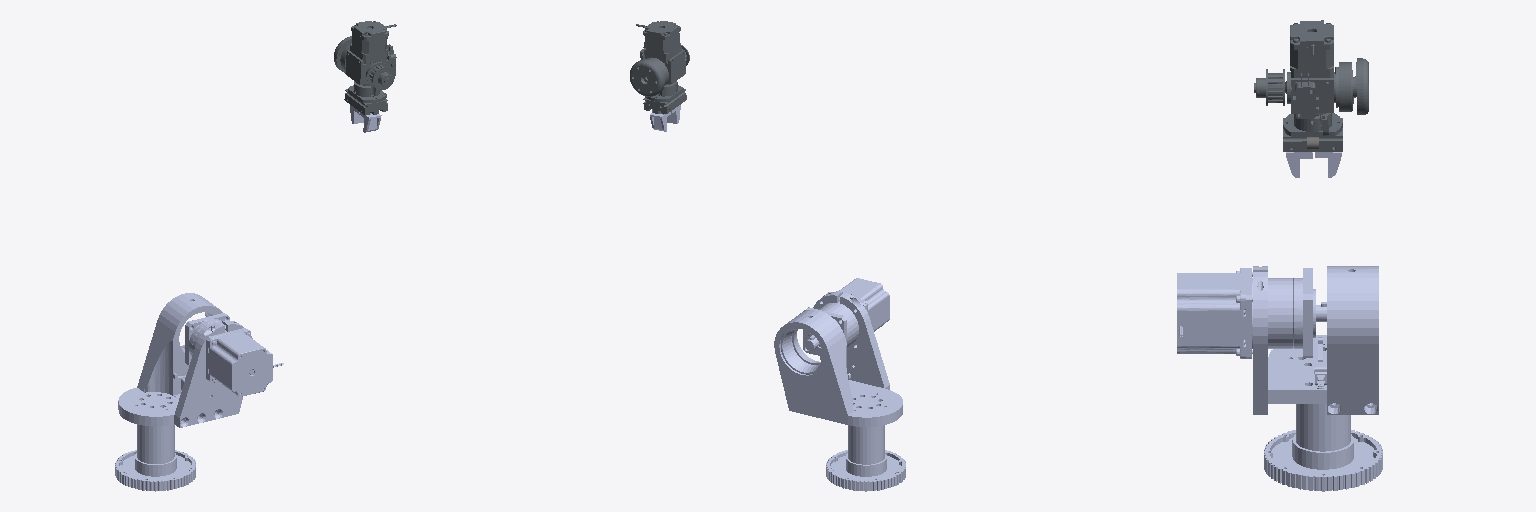
The robot description file, URDF, robot "ar2_robot":
<?xml version="1.0" encoding="utf-8"?>
<!-- This URDF was automatically created by SolidWorks to URDF Exporter! Originally created by [author] ([email redacted]) 
     Commit Version: 1.6.0-4-g7f85cfe  Build Version: 1.6.7995.38578
     For more information, please see http://wiki.ros.org/sw_urdf_exporter -->
<robot
  name="ar2_robot">
  
  <link name="world"/>
  
  <joint name="base_joint" type="fixed">
	<parent link="world"/>
	<child link="Base"/>
	<origin rpy="1.5708 0 0" xyz="0.0 0.0 0.01"/>
  </joint>
  
  <link
    name="Base">
    <inertial>
      <origin
        xyz="-0.047956 0.030971 4.1806E-06"
        rpy="0 0 0" />
      <mass
        value="0.79159" />
      <inertia
        ixx="0.00095033"
        ixy="2.9437E-06"
        ixz="3.7589E-07"
        iyy="0.0025623"
        iyz="5.7522E-08"
        izz="0.0017041" />
    </inertial>
    <visual>
      <origin
        xyz="0 0 0"
        rpy="0 0 0" />
      <geometry>
        <mesh
          filename="package://ar2_robot/meshes/Base.STL" />
      </geometry>
      <material
        name="">
        <color
          rgba="0.44706 0.47451 0.50196 1" />
      </material>
    </visual>
    <collision>
      <origin
        xyz="0 0 0"
        rpy="0 0 0" />
      <geometry>
        <mesh
          filename="package://ar2_robot/meshes/Base.STL" />
      </geometry>
    </collision>
  </link>
  <link
    name="L1">
    <inertial>
      <origin
        xyz="0.043178 0.11684 0.020606"
        rpy="0 0 0" />
      <mass
        value="0.89271" />
      <inertia
        ixx="0.00089563"
        ixy="-3.568E-05"
        ixz="-7.5709E-06"
        iyy="0.00087156"
        iyz="-1.941E-06"
        izz="0.00079881" />
    </inertial>
    <visual>
      <origin
        xyz="0 0 0"
        rpy="0 0 0" />
      <geometry>
        <mesh
          filename="package://ar2_robot/meshes/L1.STL" />
      </geometry>
      <material
        name="">
        <color
          rgba="0.79216 0.81961 0.93333 1" />
      </material>
    </visual>
    <collision>
      <origin
        xyz="0 0 0"
        rpy="0 0 0" />
      <geometry>
        <mesh
          filename="package://ar2_robot/meshes/L1.STL" />
      </geometry>
    </collision>
  </link>
  <joint
    name="J1"
    type="revolute">
    <origin
      xyz="0 0 0"
      rpy="0 0 0" />
    <parent
      link="Base" />
    <child
      link="L1" />
    <axis
      xyz="0 -1 0" />
    <limit
      lower="-3.142"
      upper="3.142"
      effort="300"
      velocity="3" />
  </joint>
  <link
    name="L2">
    <inertial>
      <origin
        xyz="0.00021277 -0.022592 -0.13662"
        rpy="0 0 0" />
      <mass
        value="0.60043" />
      <inertia
        ixx="0.0025639"
        ixy="6.398E-10"
        ixz="-2.6219E-06"
        iyy="0.002726"
        iyz="5.1152E-08"
        izz="0.00020847" />
    </inertial>
    <visual>
      <origin
        xyz="0 0 0"
        rpy="0 0 0" />
      <geometry>
        <mesh
          filename="package://ar2_robot/meshes/L2.STL" />
      </geometry>
      <material
        name="">
        <color
          rgba="0.44706 0.47451 0.50196 1" />
      </material>
    </visual>
    <collision>
      <origin
        xyz="0 0 0"
        rpy="0 0 0" />
      <geometry>
        <mesh
          filename="package://ar2_robot/meshes/L2.STL" />
      </geometry>
    </collision>
  </link>
  <joint
    name="J2"
    type="revolute">
    <origin
      xyz="0.064118 0.16067 -0.063319"
      rpy="-1.5708 -0.0004307 -3.1416" />
    <parent
      link="L1" />
    <child
      link="L2" />
    <axis
      xyz="0 -1 0" />
    <limit
      lower="-1.52"
      upper="1.52"
      effort="200"
      velocity="3" />
  </joint>
  <link
    name="L3">
    <inertial>
      <origin
        xyz="-0.012246 -0.058014 0.016206"
        rpy="0 0 0" />
      <mass
        value="0.35985" />
      <inertia
        ixx="0.00024987"
        ixy="5.8851E-08"
        ixz="-3.2649E-07"
        iyy="0.00025093"
        iyz="2.2271E-06"
        izz="9.3923E-05" />
    </inertial>
    <visual>
      <origin
        xyz="0 0 0"
        rpy="0 0 0" />
      <geometry>
        <mesh
          filename="package://ar2_robot/meshes/L3.STL" />
      </geometry>
      <material
        name="">
        <color
          rgba="0.44706 0.47451 0.50196 1" />
      </material>
    </visual>
    <collision>
      <origin
        xyz="0 0 0"
        rpy="0 0 0" />
      <geometry>
        <mesh
          filename="package://ar2_robot/meshes/L3.STL" />
      </geometry>
    </collision>
  </link>
  <joint
    name="J3"
    type="revolute">
    <origin
      xyz="0 -0.006 -0.30486"
      rpy="0 1.5708 0" />
    <parent
      link="L2" />
    <child
      link="L3" />
    <axis
      xyz="0 1 0" />
    <limit
      lower="-3.142"
      upper="3.142"
      effort="200"
      velocity="3" />
  </joint>
  <link
    name="L4">
    <inertial>
      <origin
        xyz="-0.00027059 0.090109 0.0021302"
        rpy="0 0 0" />
      <mass
        value="0.26277" />
      <inertia
        ixx="0.00040504"
        ixy="-2.7858E-07"
        ixz="-2.4376E-07"
        iyy="7.4494E-05"
        iyz="-5.3627E-07"
        izz="0.00044176" />
    </inertial>
    <visual>
      <origin
        xyz="0 0 0"
        rpy="0 0 0" />
      <geometry>
        <mesh
          filename="package://ar2_robot/meshes/L4.STL" />
      </geometry>
      <material
        name="">
        <color
          rgba="0.44706 0.47451 0.50196 1" />
      </material>
    </visual>
    <collision>
      <origin
        xyz="0 0 0"
        rpy="0 0 0" />
      <geometry>
        <mesh
          filename="package://ar2_robot/meshes/L4.STL" />
      </geometry>
    </collision>
  </link>
  <joint
    name="J4"
    type="revolute">
    <origin
      xyz="1.3711E-05 -0.0649 -0.035329"
      rpy="-1.5708 0 -0.0087908" />
    <parent
      link="L3" />
    <child
      link="L4" />
    <axis
      xyz="0 -1 0" />
    <limit
      lower="-3.142"
      upper="3.142"
      effort="200"
      velocity="3" />
  </joint>
  <link
    name="L5">
    <inertial>
      <origin
        xyz="0.01038 -0.041185 -0.0015562"
        rpy="0 0 0" />
      <mass
        value="0.13308" />
      <inertia
        ixx="2.7531E-05"
        ixy="7.1532E-08"
        ixz="1.0741E-06"
        iyy="4.6956E-05"
        iyz="5.8105E-09"
        izz="4.7362E-05" />
    </inertial>
    <visual>
      <origin
        xyz="0 0 0"
        rpy="0 0 0" />
      <geometry>
        <mesh
          filename="package://ar2_robot/meshes/L5.STL" />
      </geometry>
      <material
        name="">
        <color
          rgba="0.44706 0.47451 0.50196 1" />
      </material>
    </visual>
    <collision>
      <origin
        xyz="0 0 0"
        rpy="0 0 0" />
      <geometry>
        <mesh
          filename="package://ar2_robot/meshes/L5.STL" />
      </geometry>
    </collision>
  </link>
  <joint
    name="J5"
    type="revolute">
    <origin
      xyz="0 0.18709 0.04446"
      rpy="1.5708 0 0" />
    <parent
      link="L4" />
    <child
      link="L5" />
    <axis
      xyz="0 1 0" />
    <limit
      lower="-3.142"
      upper="3.142"
      effort="200"
      velocity="3" />
  </joint>
  <link
    name="L6">
    <inertial>
      <origin
        xyz="-6.3104E-05 0.01717 -3.4011E-05"
        rpy="0 0 0" />
      <mass
        value="0.032754" />
      <inertia
        ixx="5.6182E-06"
        ixy="-9.4627E-09"
        ixz="2.0257E-09"
        iyy="7.5493E-06"
        iyz="-1.6722E-09"
        izz="3.1805E-06" />
    </inertial>
    <visual>
      <origin
        xyz="0 0 0"
        rpy="0 0 0" />
      <geometry>
        <mesh
          filename="package://ar2_robot/meshes/L6.STL" />
      </geometry>
      <material
        name="">
        <color
          rgba="0.44706 0.47451 0.50196 1" />
      </material>
    </visual>
    <collision>
      <origin
        xyz="0 0 0"
        rpy="0 0 0" />
      <geometry>
        <mesh
          filename="package://ar2_robot/meshes/L6.STL" />
      </geometry>
    </collision>
  </link>
  <joint
    name="J6"
    type="revolute">
    <origin
      xyz="-0.020374 -0.045745 0.0010366"
      rpy="1.5793 1.52 -3.1331" />
    <parent
      link="L5" />
    <child
      link="L6" />
    <axis
      xyz="0 -1 0" />
    <limit
      lower="-3.142"
      upper="3.142"
      effort="300"
      velocity="3" />
  </joint>
  <link
    name="Claw_1">
    <inertial>
      <origin
        xyz="-0.00053649 -0.011369 -0.0035521"
        rpy="0 0 0" />
      <mass
        value="0.0050745" />
      <inertia
        ixx="3.0939E-07"
        ixy="-7.122E-09"
        ixz="3.5242E-09"
        iyy="3.0763E-07"
        iyz="3.8275E-08"
        izz="2.7958E-07" />
    </inertial>
    <visual>
      <origin
        xyz="0 0 0"
        rpy="0 0 0" />
      <geometry>
        <mesh
          filename="package://ar2_robot/meshes/Claw_1.STL" />
      </geometry>
      <material
        name="">
        <color
          rgba="0.79216 0.81961 0.93333 1" />
      </material>
    </visual>
    <collision>
      <origin
        xyz="0 0 0"
        rpy="0 0 0" />
      <geometry>
        <mesh
          filename="package://ar2_robot/meshes/Claw_1.STL" />
      </geometry>
    </collision>
  </link>
  <joint
    name="J7"
    type="prismatic">
    <origin
      xyz="-9.1987E-05 0.03627 0.023437"
      rpy="1.5708 -0.00083041 -0.050842" />
    <parent
      link="L6" />
    <child
      link="Claw_1" />
    <axis
      xyz="0 -1 0" />
    <limit
      lower="-0.01"
      upper="0"
      effort="100"
      velocity="3" />
  </joint>
  <link
    name="CLaw_2">
    <inertial>
      <origin
        xyz="1.823E-05 -0.011358 0.0037061"
        rpy="0 0 0" />
      <mass
        value="0.0050795" />
      <inertia
        ixx="3.0974E-07"
        ixy="1.1603E-08"
        ixz="6.6422E-09"
        iyy="3.0778E-07"
        iyz="-3.7594E-08"
        izz="2.8222E-07" />
    </inertial>
    <visual>
      <origin
        xyz="0 0 0"
        rpy="0 0 0" />
      <geometry>
        <mesh
          filename="package://ar2_robot/meshes/CLaw_2.STL" />
      </geometry>
      <material
        name="">
        <color
          rgba="0.79216 0.81961 0.93333 1" />
      </material>
    </visual>
    <collision>
      <origin
        xyz="0 0 0"
        rpy="0 0 0" />
      <geometry>
        <mesh
          filename="package://ar2_robot/meshes/CLaw_2.STL" />
      </geometry>
    </collision>
  </link>
  <joint
    name="J8"
    type="prismatic">
    <origin
      xyz="-5.402E-05 0.03627 -0.022225"
      rpy="-1.5708 -0.00083041 -0.050842" />
    <parent
      link="L6" />
    <child
      link="CLaw_2" />
    <axis
      xyz="0 -1 0" />
    <limit
      lower="-0.01"
      upper="0"
      effort="100"
      velocity="3" />
  </joint>
  <link name="camera_link">
    <visual>
        <geometry>
             <cylinder radius="0.005" length="0.01"/>
        </geometry>
     <material name="gray">
     <color rgba="0.5 0.5 0.5 1.0"/>
     </material>
    </visual>
</link>

<joint name="camera_joint" type="fixed">
    <parent link="L6"/>
    <child link="camera_link"/>
    <axis
      xyz="0 -1 0" />
    <origin xyz="0.02 0.02 0" rpy="0 0 1.5708"/>
</joint>

<link name="Claw_mid"/>  

<joint name="J_mid" type="fixed">
    <origin xyz="-0.00025913 -0.0113635 0.000077" rpy="0 0 0"/>
    <parent link="L6"/>
    <child link="Claw_mid"/>
</joint>

  <transmission name="link_1_trans">
	<type>transmission_interface/SimpleTransmission</type>
	<joint name="J1">
		<hardwareInterface>hardware_interface/PositionJointInterface</hardwareInterface>
	</joint>
	<actuator name="link_1_motor">
		<hardwareInterface>hardware_interface/PositionJointInterface</hardwareInterface>
		<mechanicalReduction>1</mechanicalReduction>
	</actuator>
  </transmission>
  
    <transmission name="link_2_trans">
	<type>transmission_interface/SimpleTransmission</type>
	<joint name="J2">
		<hardwareInterface>hardware_interface/PositionJointInterface</hardwareInterface>
	</joint>
	<actuator name="link_2_motor">
		<hardwareInterface>hardware_interface/PositionJointInterface</hardwareInterface>
		<mechanicalReduction>1</mechanicalReduction>
	</actuator>
  </transmission>
  
    <transmission name="link_3_trans">
	<type>transmission_interface/SimpleTransmission</type>
	<joint name="J3">
		<hardwareInterface>hardware_interface/PositionJointInterface</hardwareInterface>
	</joint>
	<actuator name="link_3_motor">
		<hardwareInterface>hardware_interface/PositionJointInterface</hardwareInterface>
		<mechanicalReduction>1</mechanicalReduction>
	</actuator>
  </transmission>
  
    <transmission name="link_4_trans">
	<type>transmission_interface/SimpleTransmission</type>
	<joint name="J4">
		<hardwareInterface>hardware_interface/PositionJointInterface</hardwareInterface>
	</joint>
	<actuator name="link_4_motor">
		<hardwareInterface>hardware_interface/PositionJointInterface</hardwareInterface>
		<mechanicalReduction>1</mechanicalReduction>
	</actuator>
  </transmission>
  
    <transmission name="link_5_trans">
	<type>transmission_interface/SimpleTransmission</type>
	<joint name="J5">
		<hardwareInterface>hardware_interface/PositionJointInterface</hardwareInterface>
	</joint>
	<actuator name="link_5_motor">
		<hardwareInterface>hardware_interface/PositionJointInterface</hardwareInterface>
		<mechanicalReduction>1</mechanicalReduction>
	</actuator>
  </transmission>
  
    <transmission name="link_6_trans">
	<type>transmission_interface/SimpleTransmission</type>
	<joint name="J6">
		<hardwareInterface>hardware_interface/PositionJointInterface</hardwareInterface>
	</joint>
	<actuator name="link_6_motor">
		<hardwareInterface>hardware_interface/PositionJointInterface</hardwareInterface>
		<mechanicalReduction>1</mechanicalReduction>
	</actuator>
  </transmission>
  
    <transmission name="Claw_1_trans">
	<type>transmission_interface/SimpleTransmission</type>
	<joint name="J7">
		<hardwareInterface>hardware_interface/PositionJointInterface</hardwareInterface>
	</joint>
	<actuator name="Claw_1_motor">
		<hardwareInterface>hardware_interface/PositionJointInterface</hardwareInterface>
		<mechanicalReduction>1</mechanicalReduction>
	</actuator>
  </transmission>
  
    <transmission name="Claw_2_trans">
	<type>transmission_interface/SimpleTransmission</type>
	<joint name="J8">
		<hardwareInterface>hardware_interface/PositionJointInterface</hardwareInterface>
	</joint>
	<actuator name="Claw_2_motor">
		<hardwareInterface>hardware_interface/PositionJointInterface</hardwareInterface>
		<mechanicalReduction>1</mechanicalReduction>
	</actuator>
  </transmission>
  
  <gazebo>
	<plugin name="control" filename="libgazebo_ros_control.so">
		<robotNamespace>/</robotNamespace>
	</plugin>
  </gazebo>
  
  <gazebo reference="L1">
	<selfCollide>true</selfCollide>
  </gazebo>
  
  <gazebo reference="L2">
	<selfCollide>true</selfCollide>
  </gazebo>
  
  <gazebo reference="L3">
	<selfCollide>true</selfCollide>
  </gazebo>
  
  <gazebo reference="L4">
	<selfCollide>true</selfCollide>
  </gazebo>
  
  <gazebo reference="L5">
	<selfCollide>true</selfCollide>
  </gazebo>
  
  <gazebo reference="L6">
	<selfCollide>true</selfCollide>
  </gazebo>
  
  <gazebo reference="Claw_1">
	<selfCollide>true</selfCollide>
  </gazebo>
  
  <gazebo reference="CLaw_2">
	<selfCollide>true</selfCollide>
  </gazebo>
  
<gazebo reference="camera_link">
  <sensor type="depth" name="camera_sensor">
    <pose>0 0 0 0 0 0</pose>
    <visualize>true</visualize>
    <update_rate>30</update_rate>
    <camera>
      <horizontal_fov>0.698</horizontal_fov>
      <image>
        <width>640</width>
        <height>480</height>
        <format>R8G8B8</format>
      </image>
      <clip>
        <near>0.1</near>
        <far>100</far>
      </clip>
      <depth_camera>
        <near>0.1</near>
        <far>100</far>
      </depth_camera>
    </camera>
    <plugin name="depth_camera_controller" filename="libgazebo_ros_depth_camera.so">
      <always_on>true</always_on>
      <update_rate>30.0</update_rate>
      <camera_name>robot_camera</camera_name>
      <image_topic_name>/camera/image_raw</image_topic_name>
      <camera_info_topic_name>/camera/camera_info</camera_info_topic_name>
      <depth_image_topic_name>/camera/depth/image_raw</depth_image_topic_name>
      <frame_name>camera_link</frame_name>
    </plugin>
  </sensor>
</gazebo>                                                                                                                                                  <gazebo reference="camera_link">
  <sensor name="fake_rgb_camera" type="camera">
    <pose>0 0 0 0 0 0</pose> <!-- Giống sensor thật -->
    <always_on>true</always_on>
    <update_rate>0.1</update_rate> <!-- Rất thấp -->
    <camera>
      <horizontal_fov>0.698</horizontal_fov> <!-- Copy y chang -->
      <image>
        <width>1</width> <!-- Nhỏ tẹo -->
        <height>1</height>
        <format>R8G8B8</format>
      </image>
      <clip>
        <near>0.1</near> <!-- Copy từ sensor thật -->
        <far>100</far>
      </clip>
    </camera>
    <visualize>true</visualize> <!-- Quan trọng: để Gazebo vẽ cái nón -->
  </sensor>
</gazebo>

</robot>

--- Facts derived from the render (not from the file) ---
3 views of the same robot in one strip: view 1: azimuth 30°, elevation 25°; view 2: azimuth 150°, elevation 25°; view 3: azimuth 270°, elevation 25° (orthographic).
Model ar2_robot with 12 links and 11 joints (6 revolute, 2 prismatic, 3 fixed), rooted at world, posed all joints at 0.
Visible links, largest first — view 1: L1, L5, L6; view 2: L1, L5, L6; view 3: L1, L5, L6.
Boxes of the visible links, <box> form: L1: <box>115,293,283,491</box>; L5: <box>334,21,396,90</box>; L6: <box>344,81,387,114</box>; L1: <box>774,278,905,491</box>; L5: <box>630,21,689,96</box>; L6: <box>643,81,686,113</box>; L1: <box>1177,266,1382,491</box>; L5: <box>1254,20,1368,135</box>; L6: <box>1283,113,1342,151</box>.
Size in the robot's own frame: 0.373 by 0.1666 by 0.5239 metres.
5 mesh visuals loaded from 9 distinct referenced files (5 binary STL); not drawn: 4 (reference not matched to a file when rendering).
